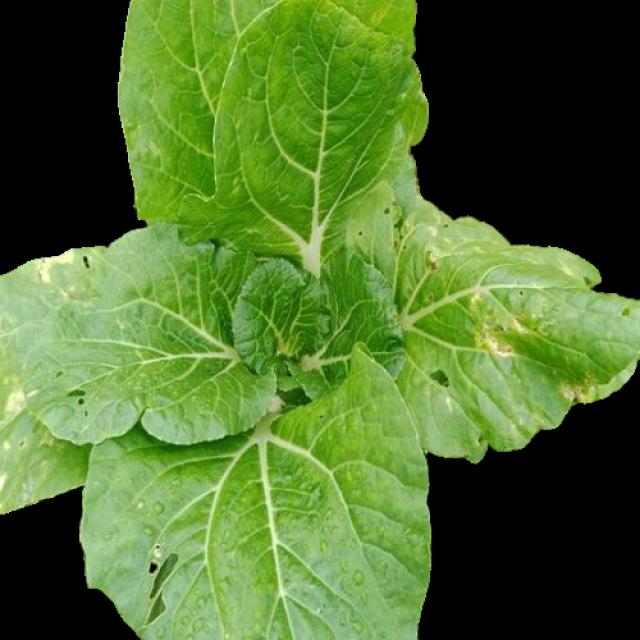mature: (5, 1, 640, 636)
unhealthy: (1, 229, 301, 507), (344, 180, 634, 461), (80, 412, 422, 638)
